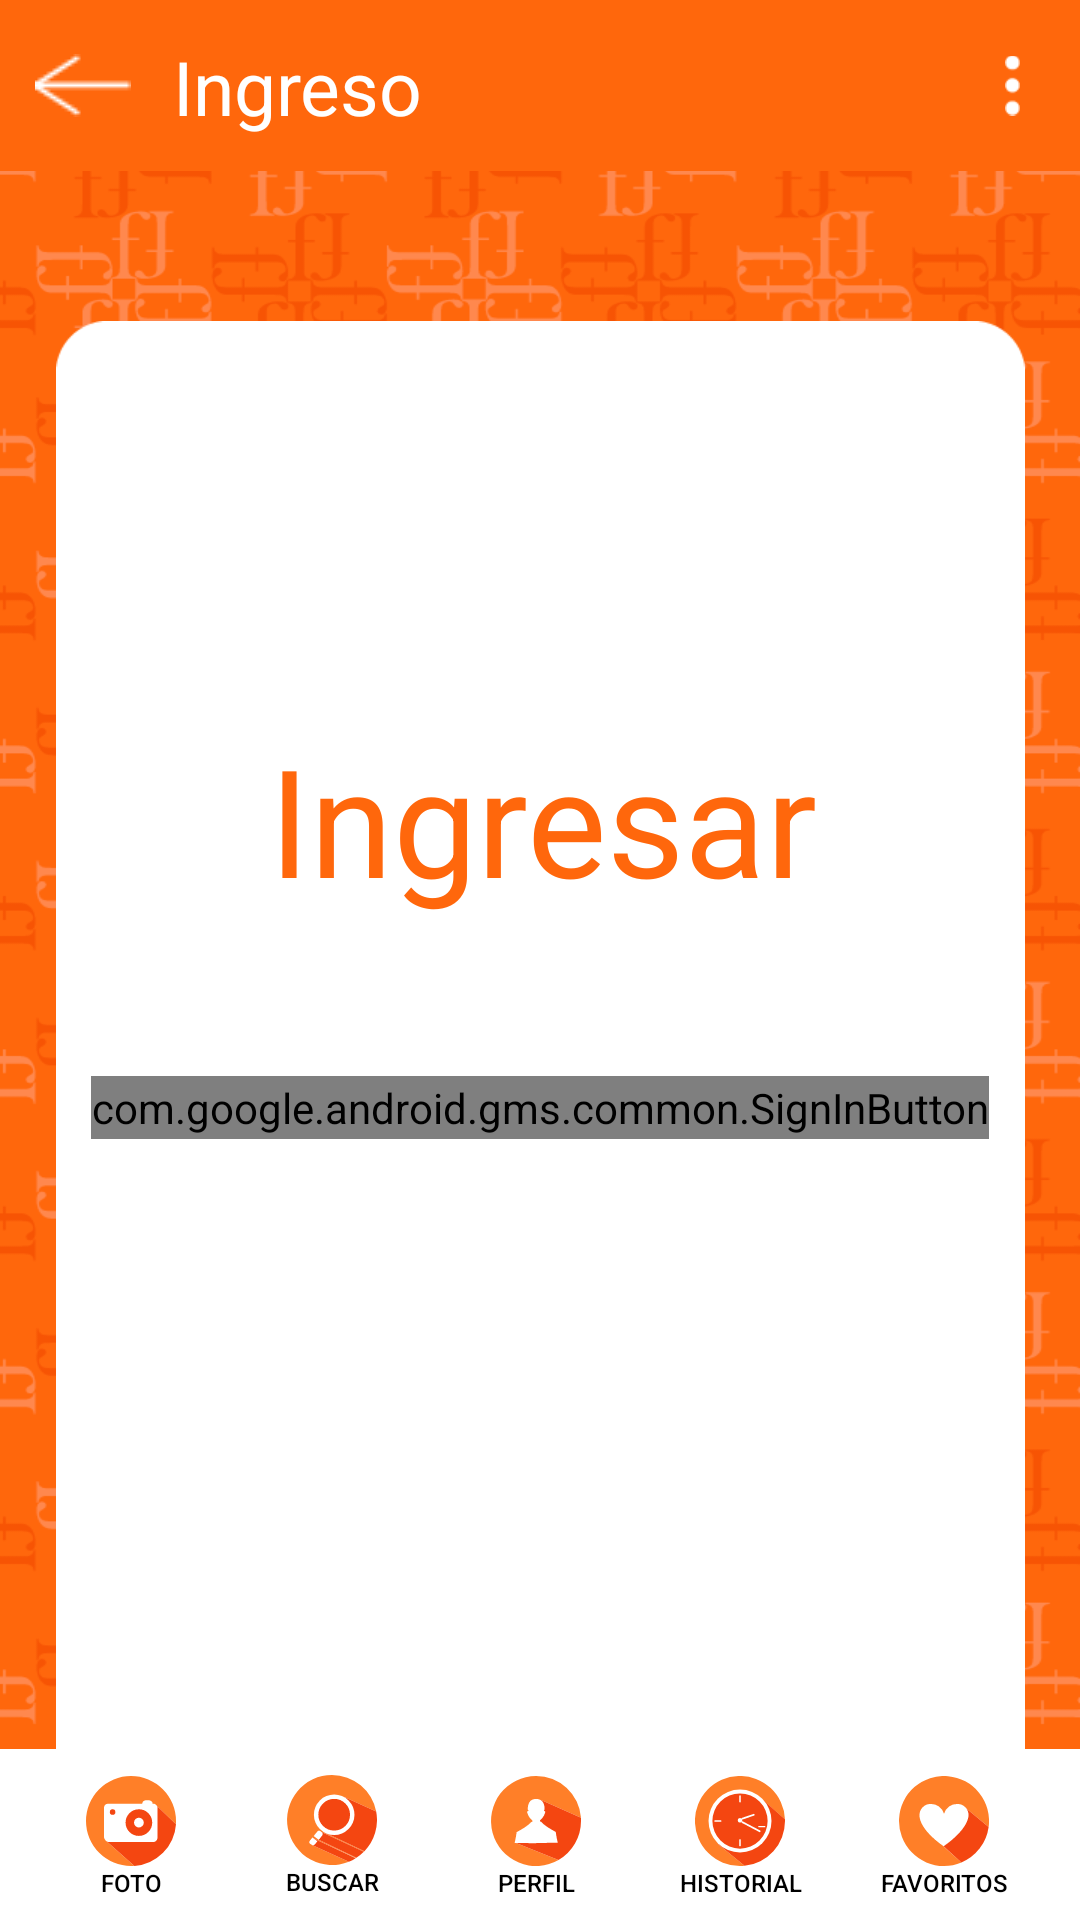

Named icons in this screenshot (1080px×1920px) and their centers, (x=x, y=y):
atras: (x=83, y=85)
